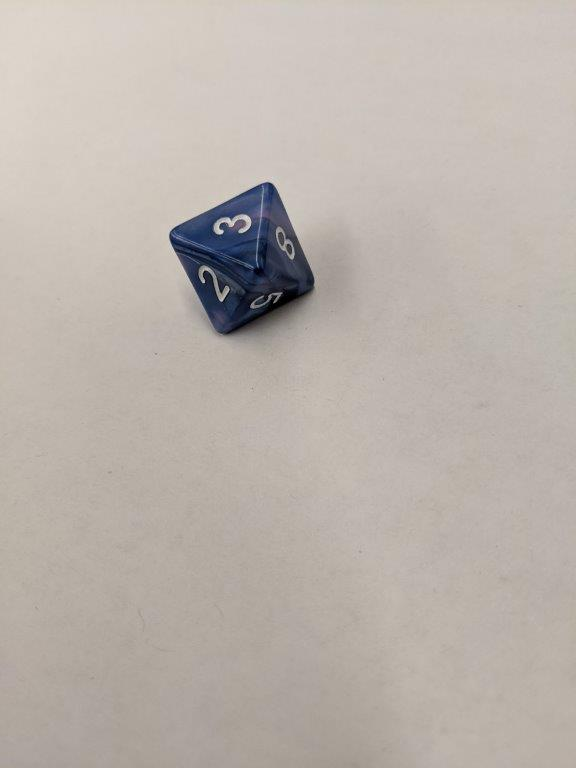d8-3: (169, 181, 318, 335)
